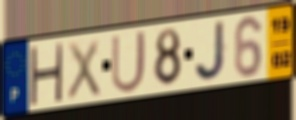6: (232, 13, 264, 80)
8: (151, 26, 184, 89)
H: (28, 42, 65, 106)
J: (192, 19, 229, 84)
U: (110, 28, 148, 96)
X: (65, 37, 102, 102)
